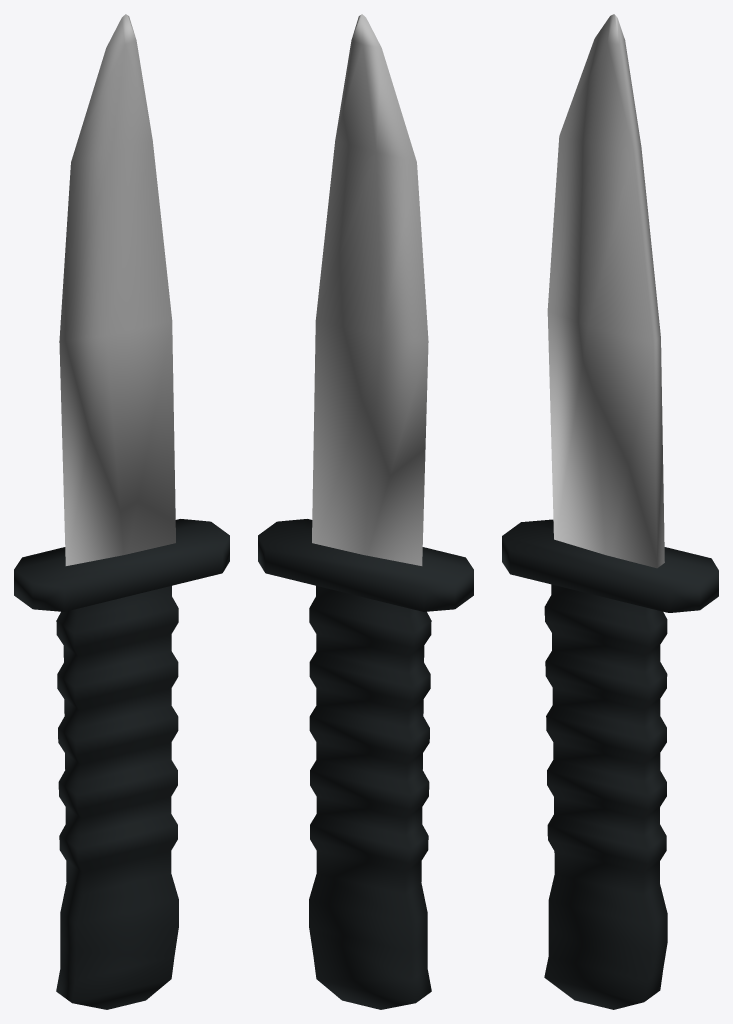
File: Knife.fbx
The picture shows the model from 3 angles, left to right: view 1: azimuth 30°, elevation 25°; view 2: azimuth 150°, elevation 25°; view 3: azimuth 330°, elevation 25°; orthographic projection.
Visible parts, largest first — view 1: Mesh; view 2: Mesh; view 3: Mesh.
Part boxes in pixels (bbox=[...]): Mesh: bbox=[14, 14, 229, 1009]; Mesh: bbox=[258, 14, 473, 1009]; Mesh: bbox=[502, 14, 718, 1009].
Size of the model in its own units: 12.94 by 61.55 by 4.79.
